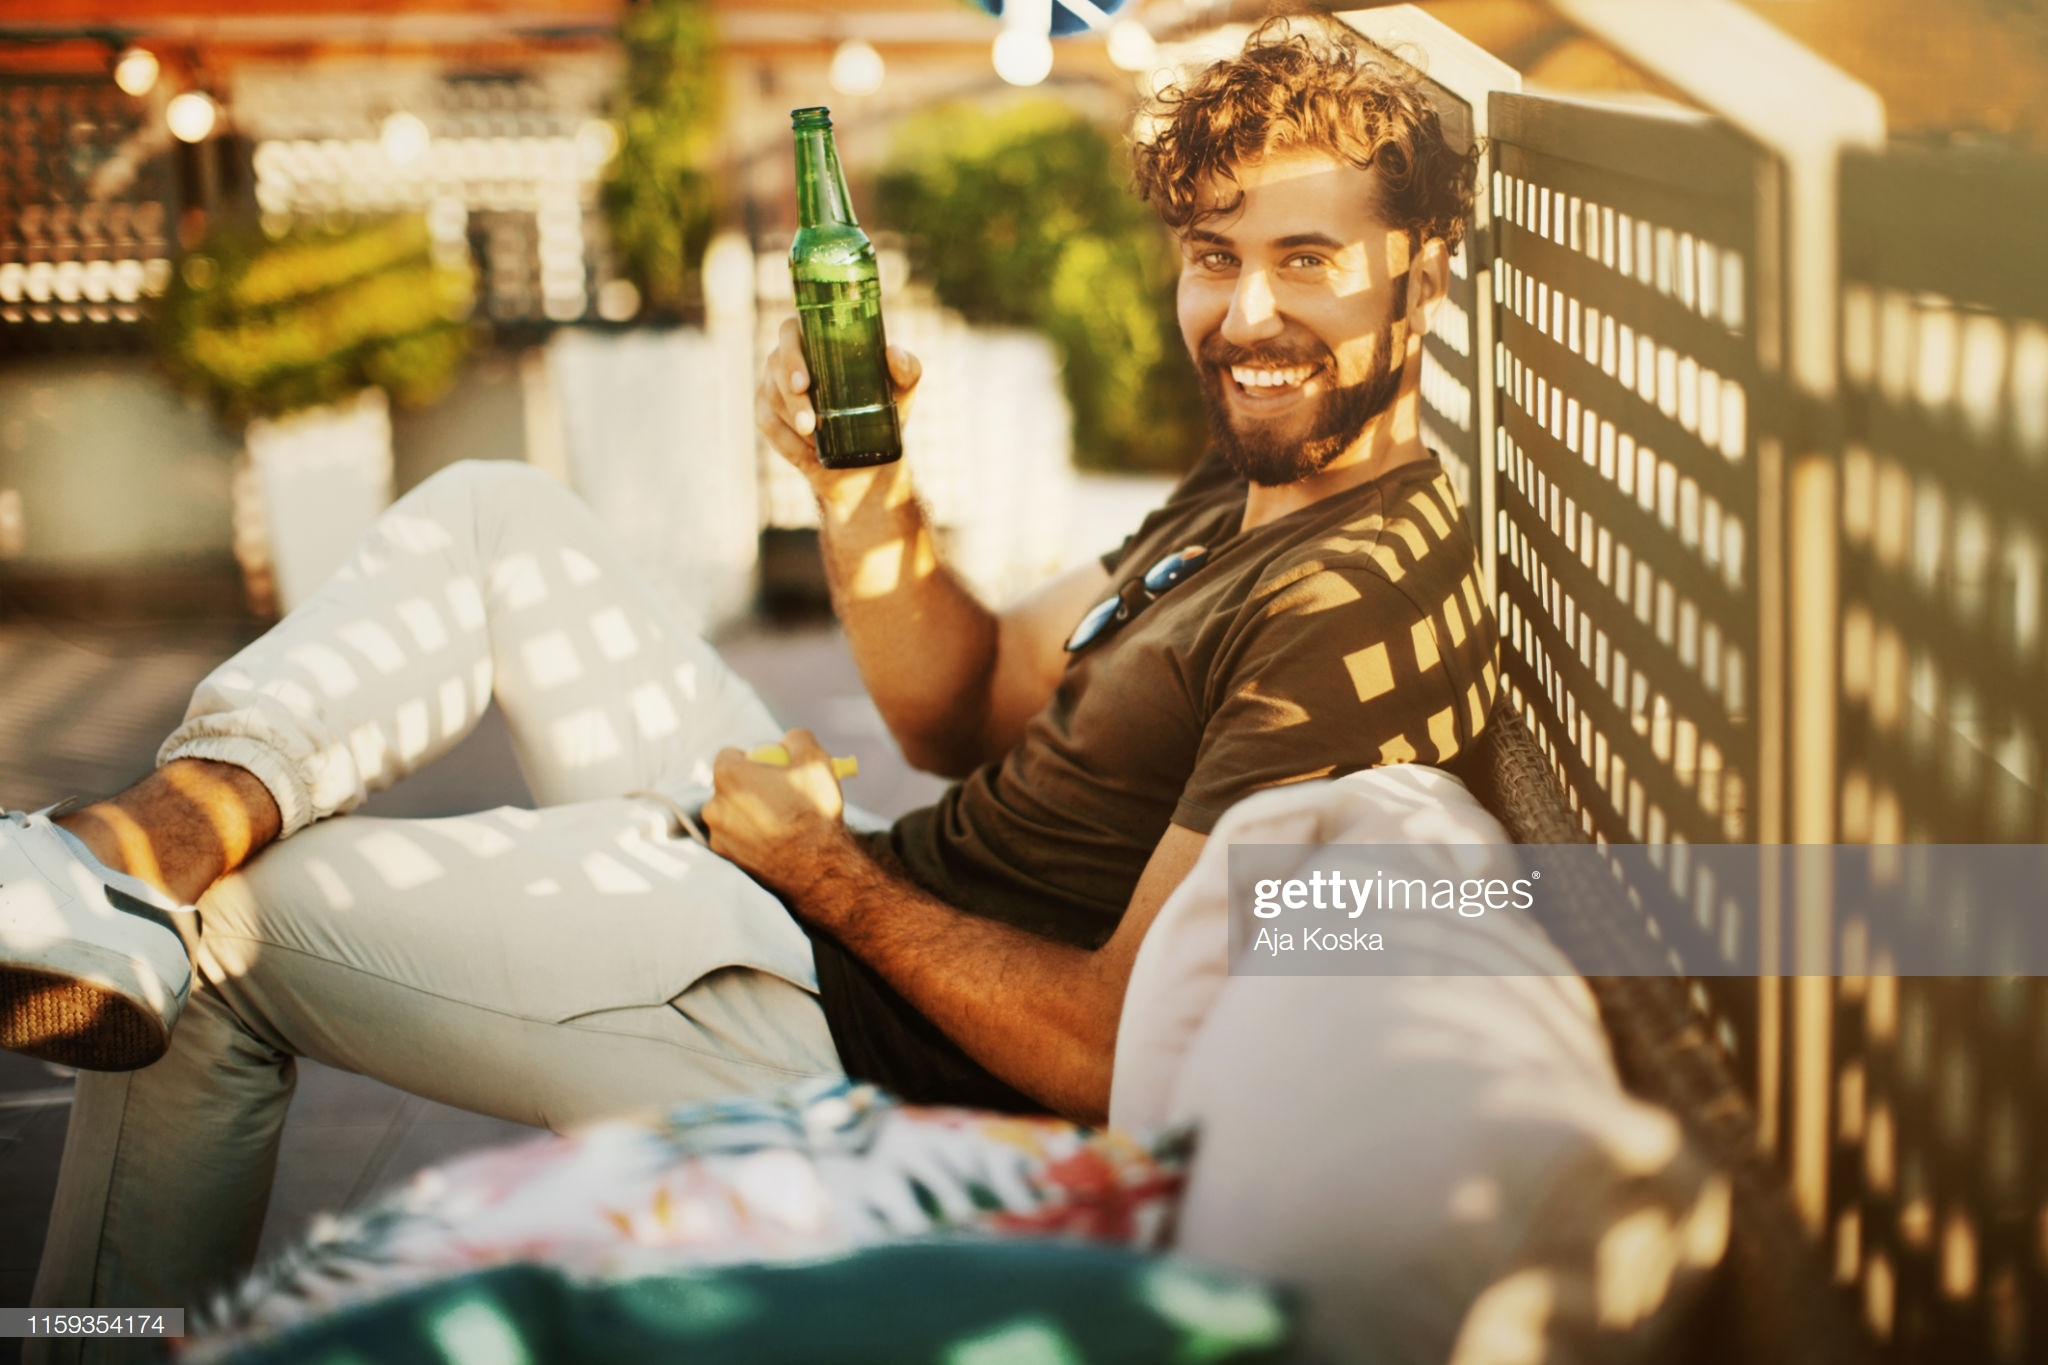beerBottle: (787, 104, 898, 469)
